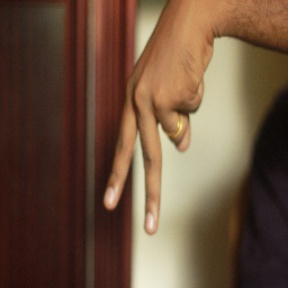Y: (102, 47, 208, 238)
